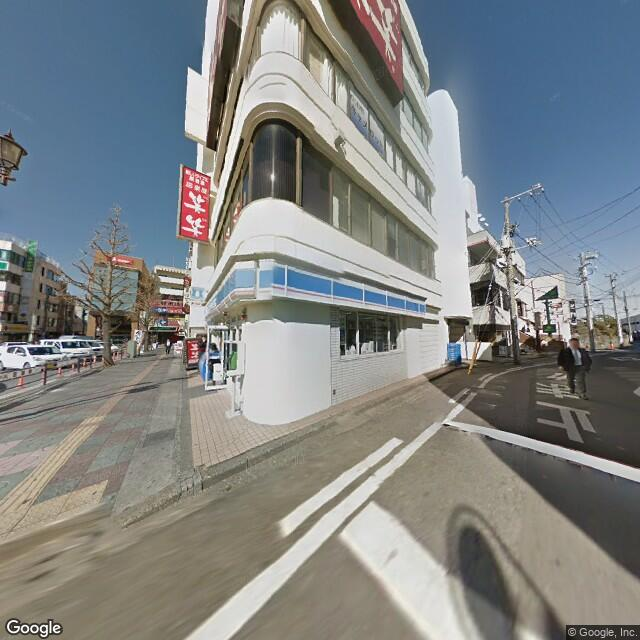lawson: (207, 258, 427, 327), (183, 284, 207, 300)
